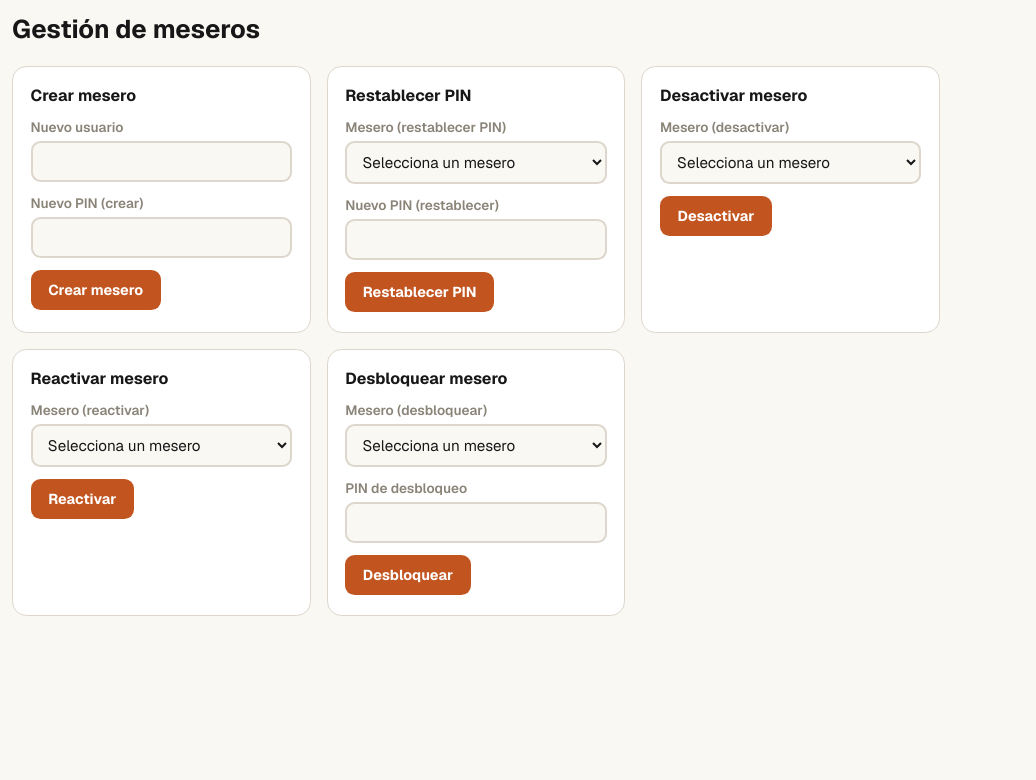
it: MeseroManagement (T53, RF-2/3/4/5/7) › shows the duplicate-username error when creating a mesero
This screenshot has width=1036, height=780.
In the field labelled "Nuevo usuario": (161, 162) [31,141,292,182], type "carlos"
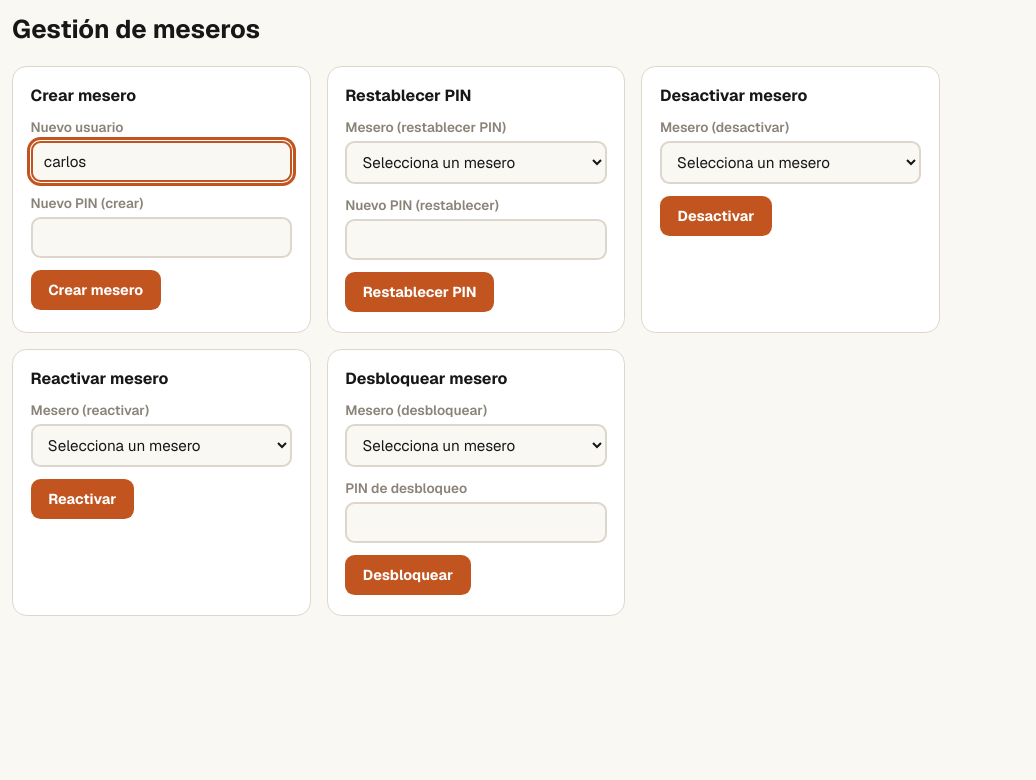
In the field labelled "Nuevo PIN (crear)": (161, 238) [31,217,292,258], type "1234"
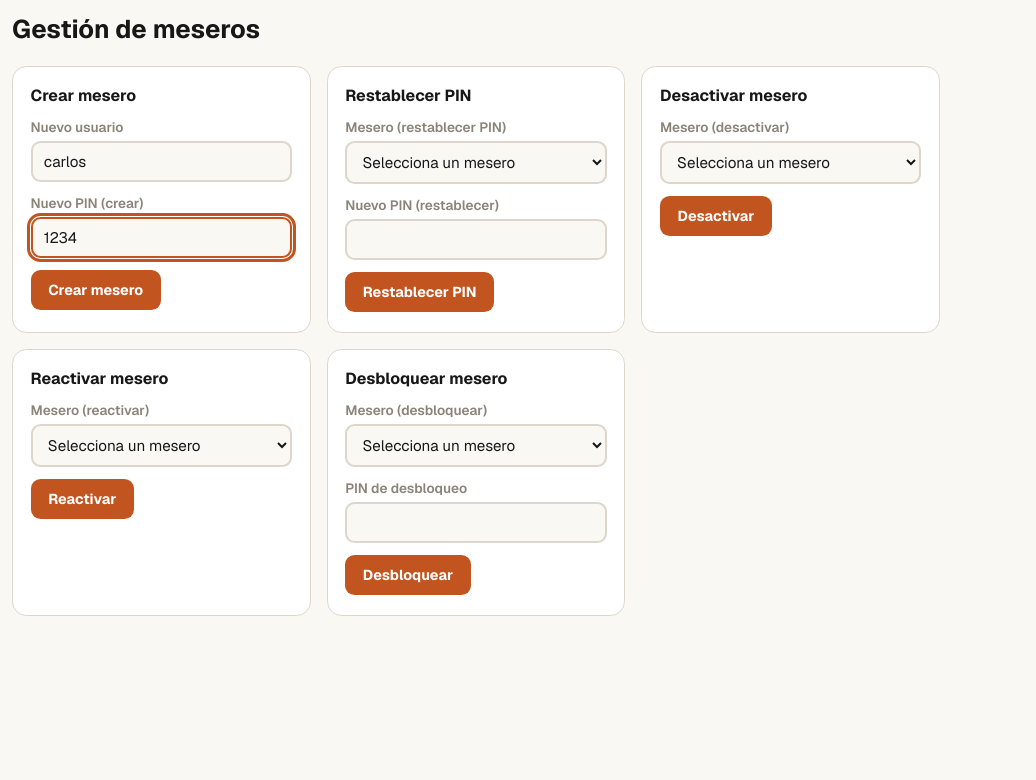
Click the button "Crear mesero": (96, 290) [31,270,161,310]
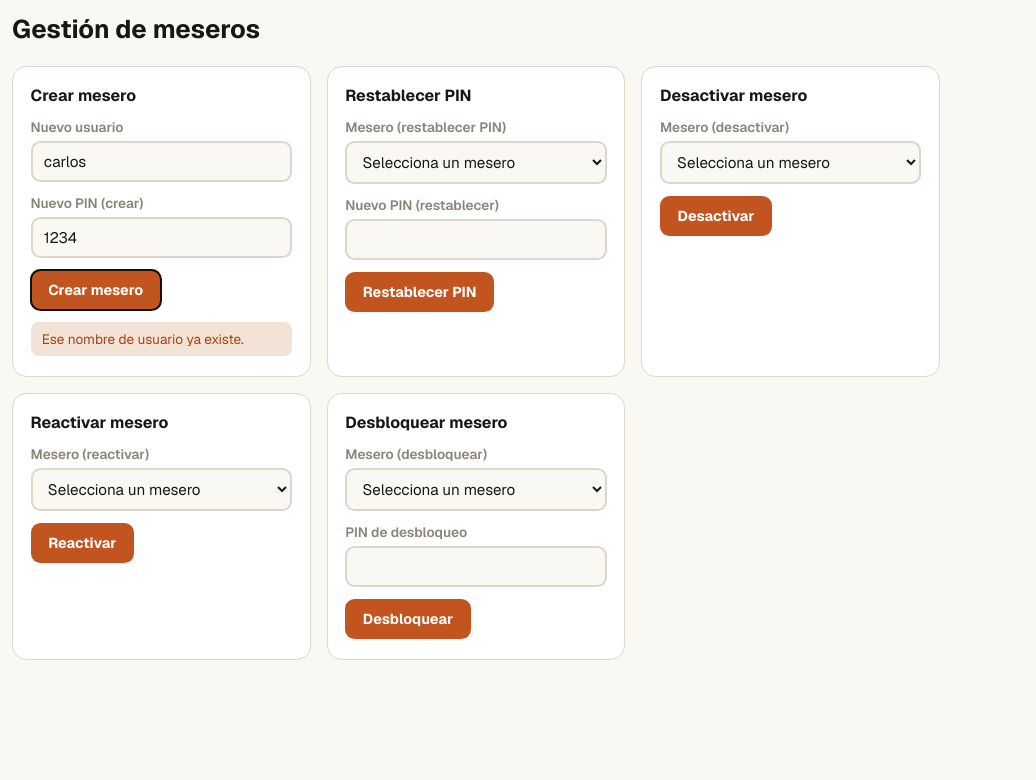
Expected: the text "Ese nombre de usuario ya existe." is shown, [31,322,292,356]
